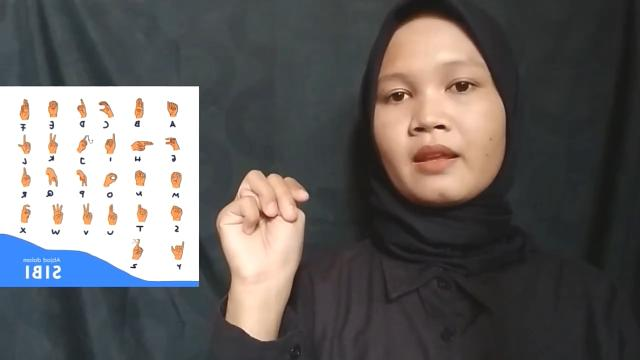M: (212, 170, 310, 274)
